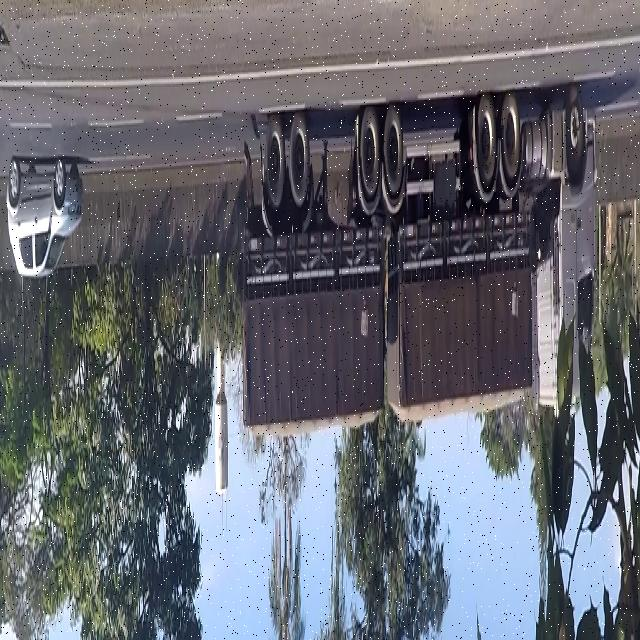-axle: (559, 75, 587, 185), (498, 73, 522, 197), (358, 94, 381, 204), (382, 89, 404, 199), (288, 110, 311, 214), (474, 80, 495, 192), (265, 110, 285, 218)
